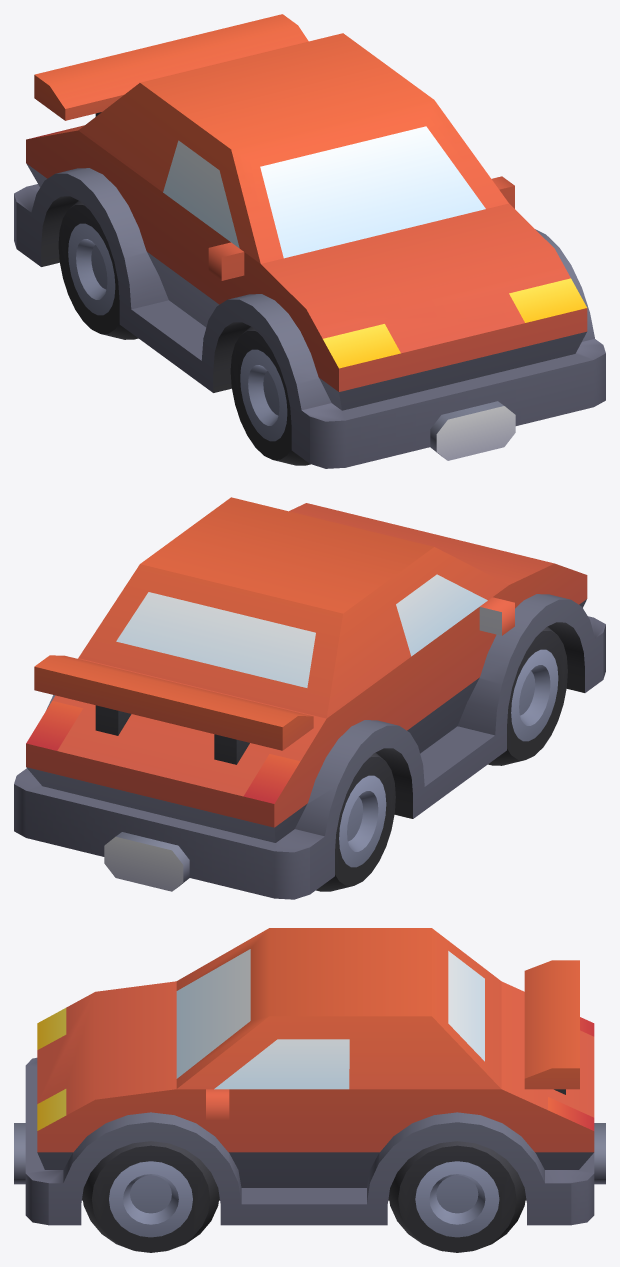
The model's file is sedan-sports.fbx.
3 views of the same model, one above another, from view 1: azimuth 30°, elevation 25°; view 2: azimuth 150°, elevation 25°; view 3: azimuth 270°, elevation 25° (orthographic). The views are drawn at different scales.
Parts seen in each view (by area): view 1: body, spoiler, wheel-back-right, wheel-front-right; view 2: body, spoiler, wheel-back-right, wheel-front-right; view 3: body, wheel-back-left, wheel-front-left, spoiler.
Boxes of the visible parts, box(x1,y1,x2,y2) form: body: box(14, 33, 605, 468); spoiler: box(34, 14, 308, 120); wheel-back-right: box(58, 200, 138, 339); wheel-front-right: box(230, 326, 310, 465); body: box(14, 497, 605, 899); spoiler: box(34, 655, 313, 764); wheel-back-right: box(316, 752, 395, 891); wheel-front-right: box(488, 626, 567, 765); body: box(14, 928, 605, 1225); wheel-back-left: box(389, 1141, 525, 1252); wheel-front-left: box(82, 1141, 219, 1252); spoiler: box(524, 960, 579, 1094).
Bounding box in the file's own units: 130 × 110 × 255.
Materials: 1 (1 with a texture image).
